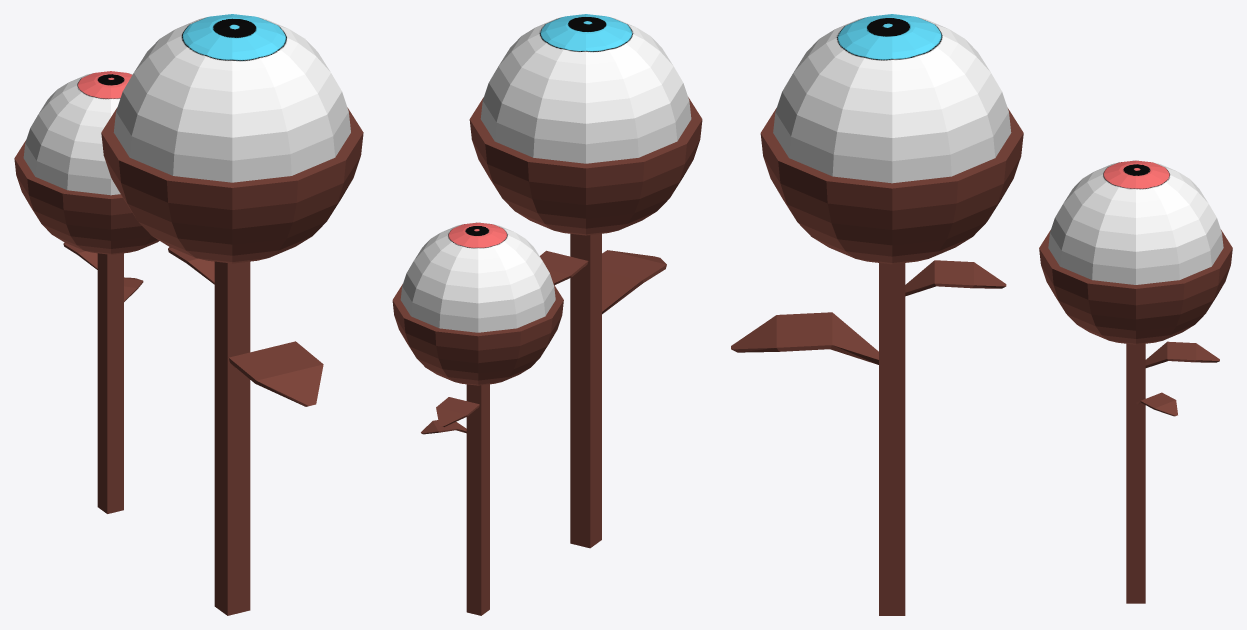
File: flower3.fbx
3 renders of one model, left to right at view 1: azimuth 30°, elevation 25°; view 2: azimuth 150°, elevation 25°; view 3: azimuth 270°, elevation 25°, orthographic. The views are drawn at different scales.
Visible parts, largest first — view 1: flower3.001; view 2: flower3.001; view 3: flower3.001.
Part boxes in pixels (x1,y1,x2,y2): flower3.001: [14, 14, 363, 615]; flower3.001: [392, 14, 702, 615]; flower3.001: [731, 14, 1232, 615].
Size of the model in its own units: 151 by 370 by 287.
